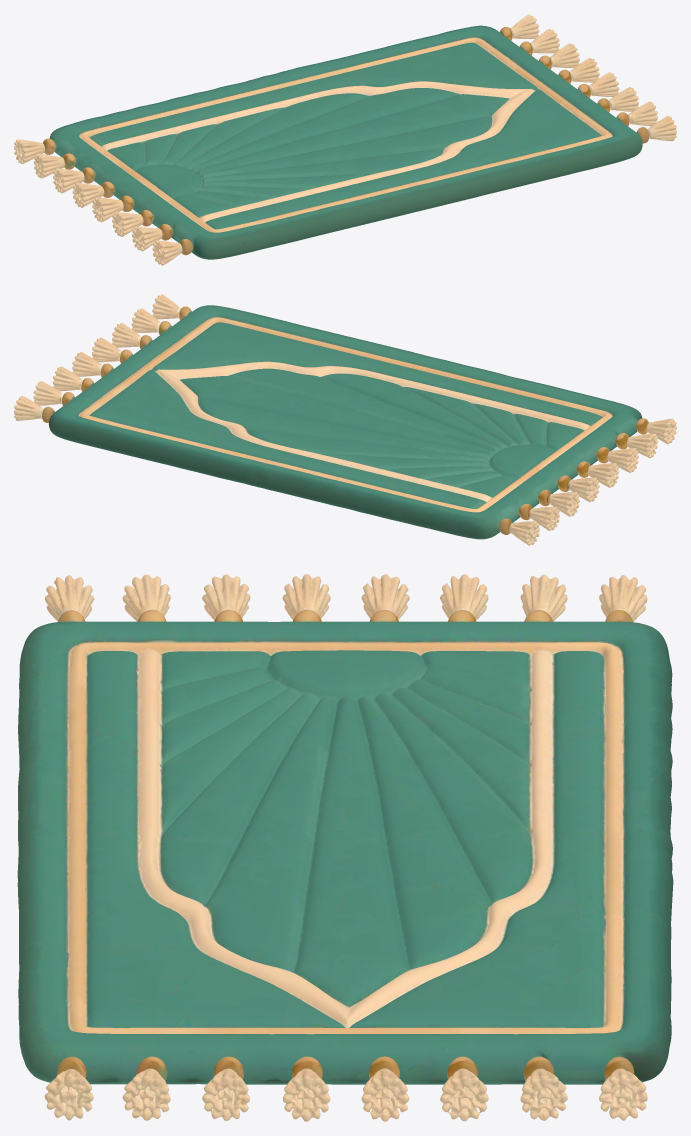
File: prayer-rug-variant-03-teal-sunrise-arch.glb
3 views of the same model, one above another, from view 1: azimuth 30°, elevation 25°; view 2: azimuth 150°, elevation 25°; view 3: azimuth 270°, elevation 25° (orthographic). The views are drawn at different scales.
Parts seen in each view (by area): view 1: mesh_node; view 2: mesh_node; view 3: mesh_node.
Part boxes in pixels (<box>): mesh_node: <box>14,14,676,265</box>; mesh_node: <box>14,294,676,545</box>; mesh_node: <box>17,574,673,1121</box>.
Bounding box in the file's own units: 1.9 × 0.0881 × 1.04.
Materials: 1 (1 with a texture image).
